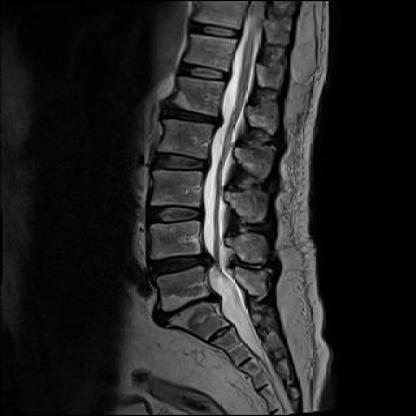Degenerative Disc Diseaserotation: (143, 249, 220, 282), (146, 295, 227, 322)
Disc Bulgerotation: (143, 249, 218, 282), (147, 296, 226, 324)
Disc Relaxationrotation: (139, 199, 211, 230), (156, 101, 227, 132), (148, 146, 212, 177)
